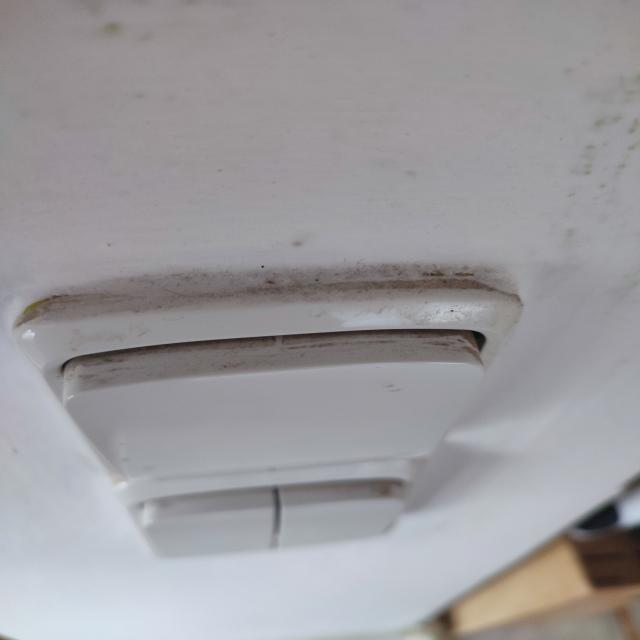house switch: (22, 303, 509, 482)
house switch double: (129, 467, 406, 561)
